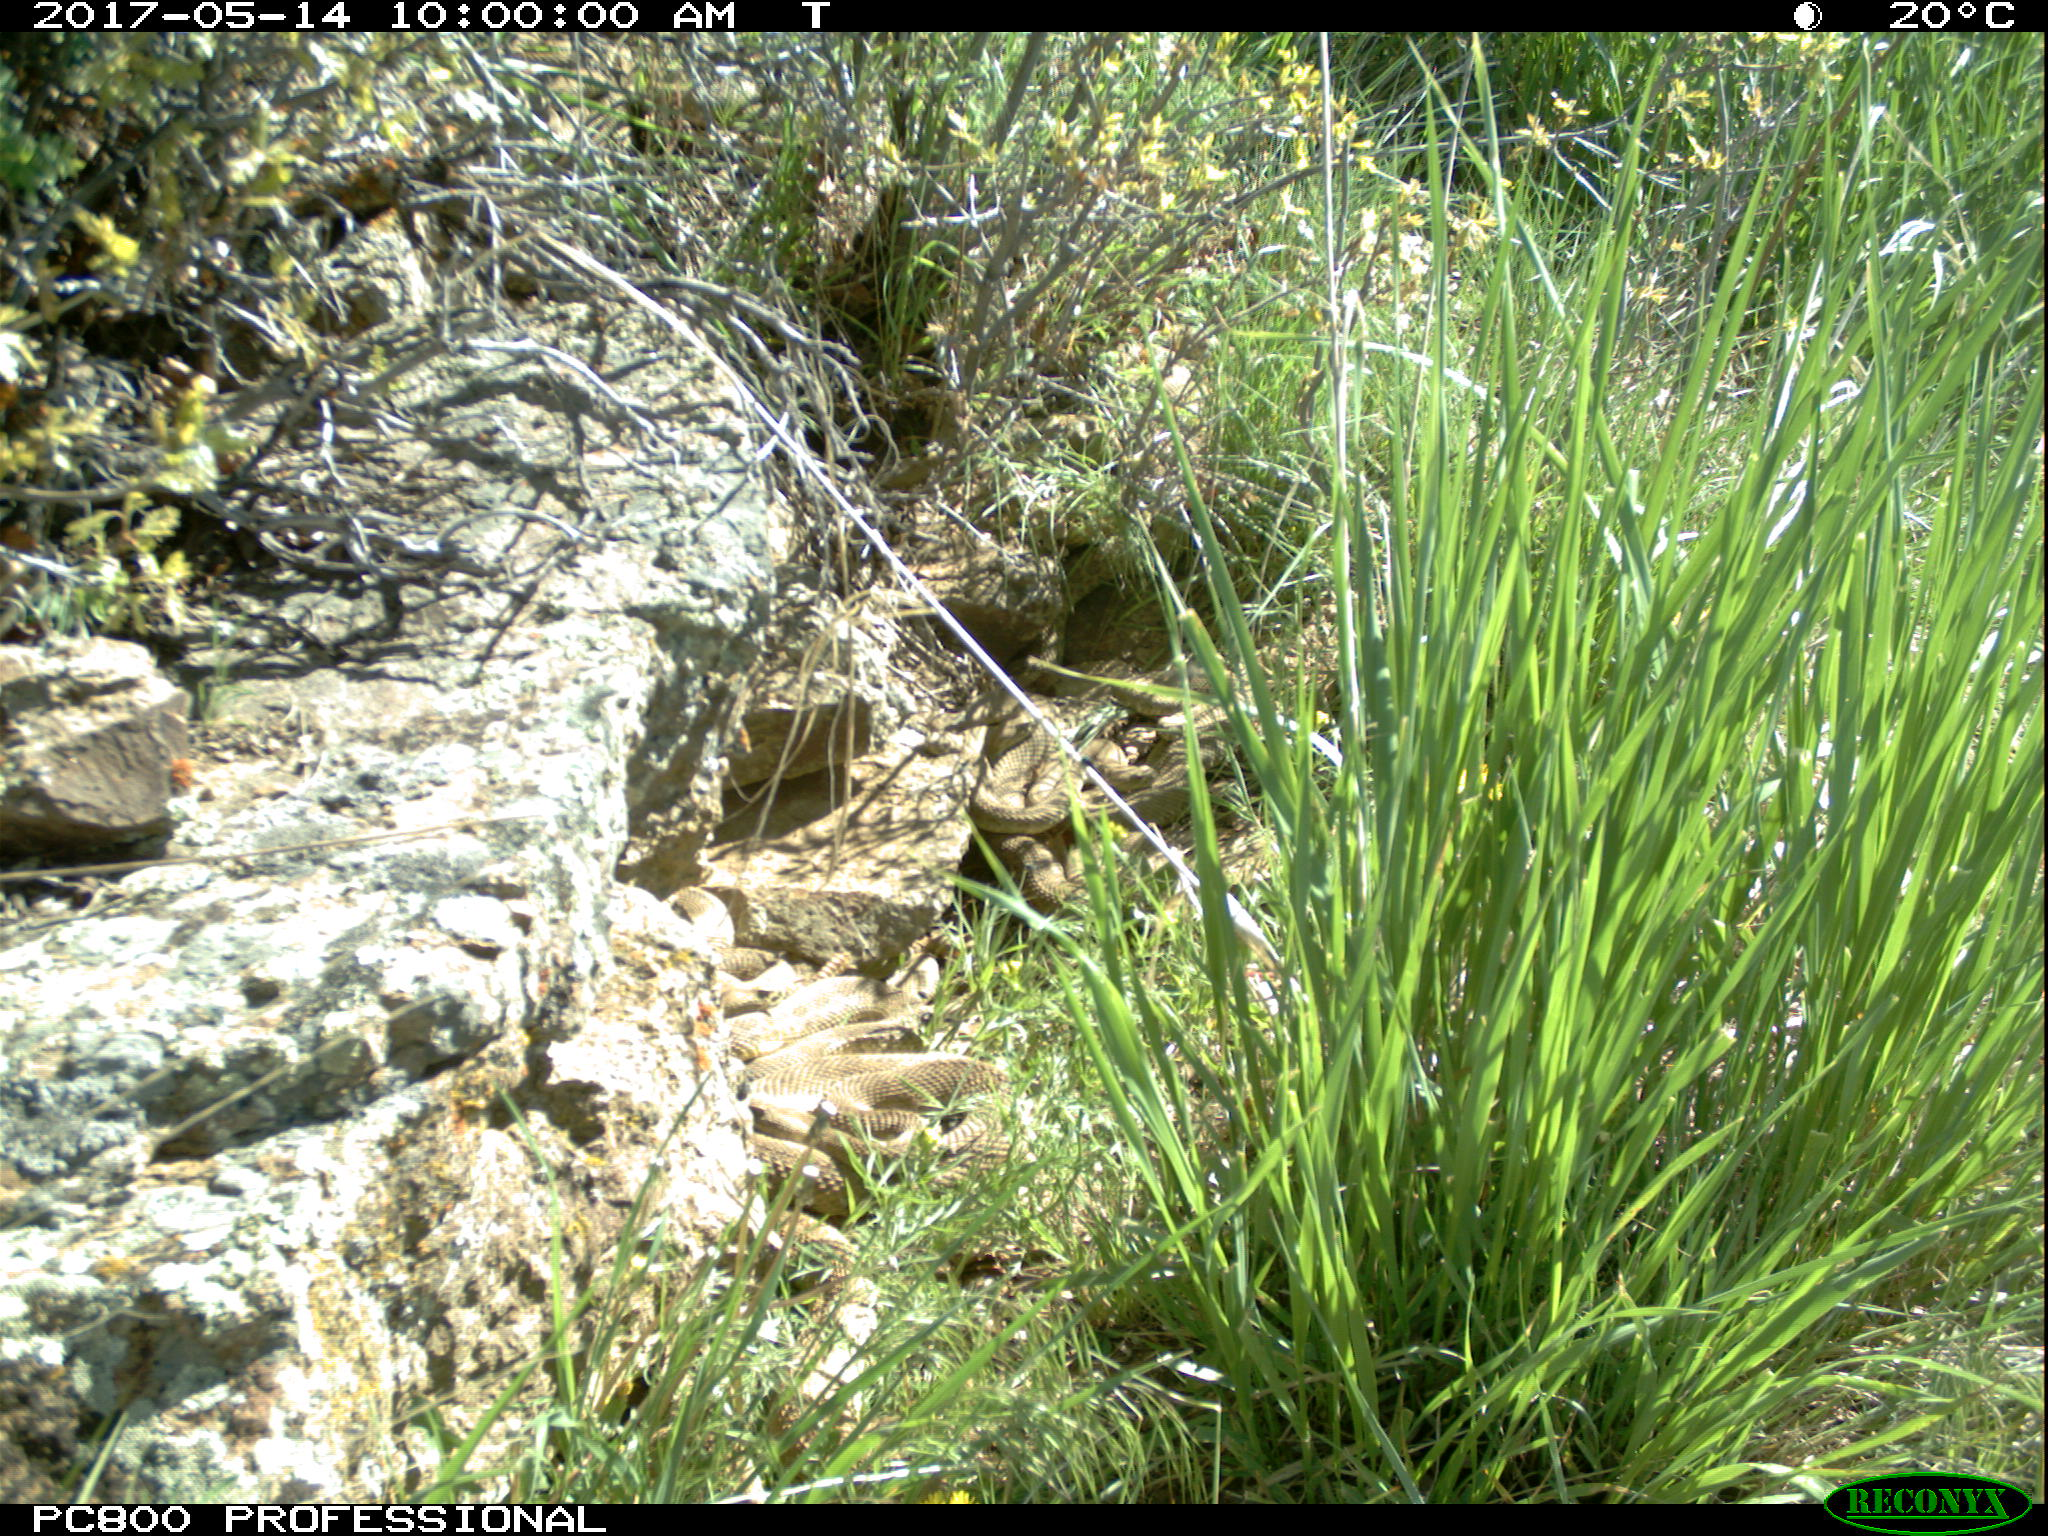snake: (747, 1049, 1030, 1197), (974, 692, 1156, 836), (721, 949, 947, 1063), (997, 829, 1095, 912)
